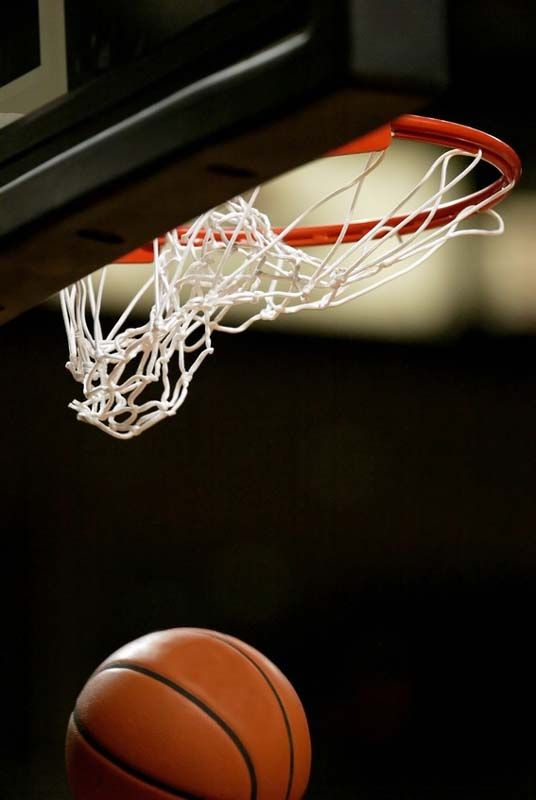basketball: (67, 628, 310, 800)
